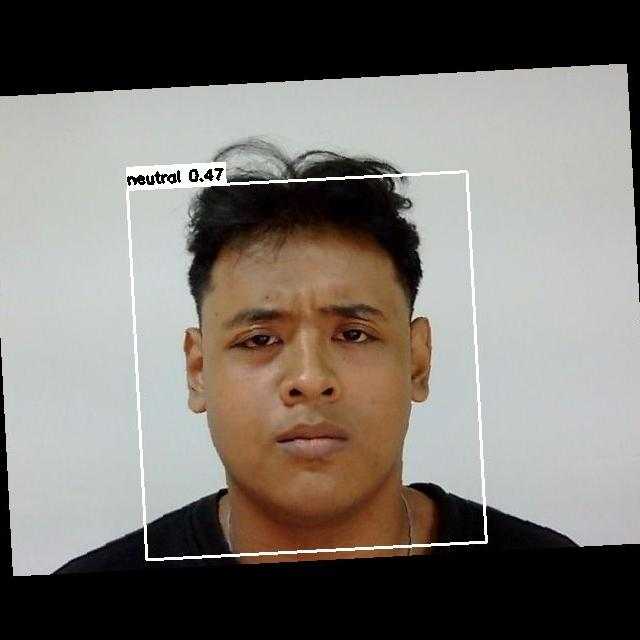Angry: (192, 279, 432, 474)
